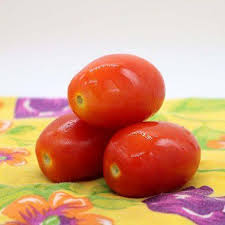tomate: (34, 51, 202, 194)
